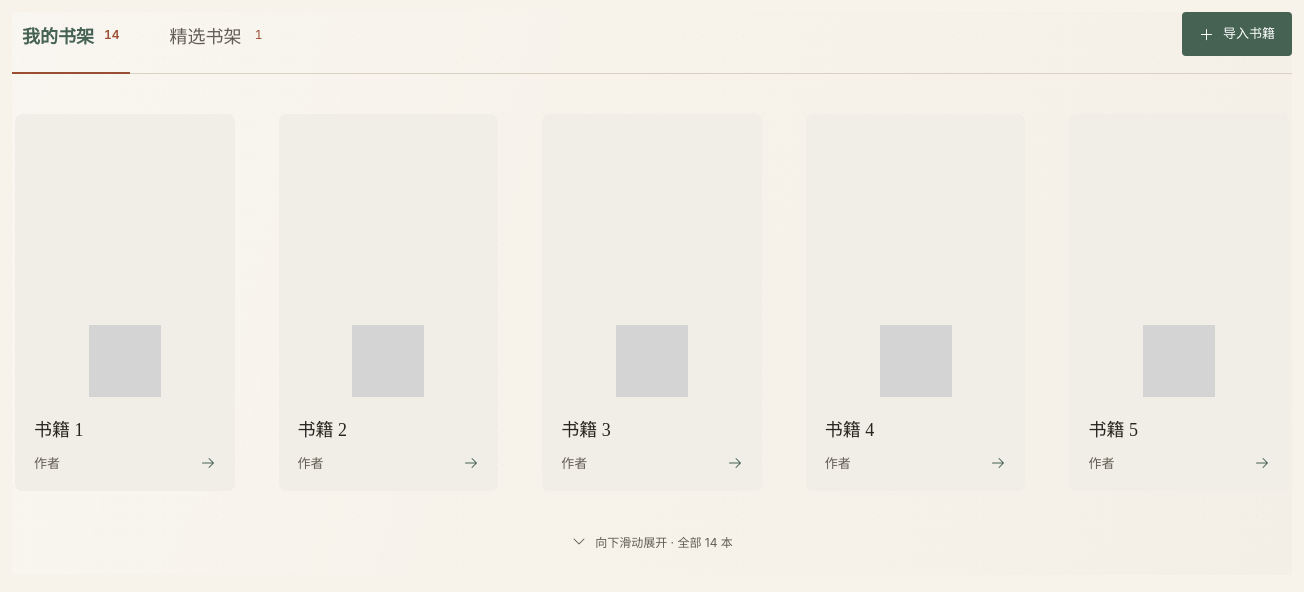
Test: AnalyzedBookShelf › shows one shelf at a time, with titles and working book links
Expected: the text "书籍 1" is shown, [34,420,84,440]
Expected: the link "精选书籍" is not shown
Step 1. Click the tab "精选书架 1" → (218, 42), box [160,12,276,73]
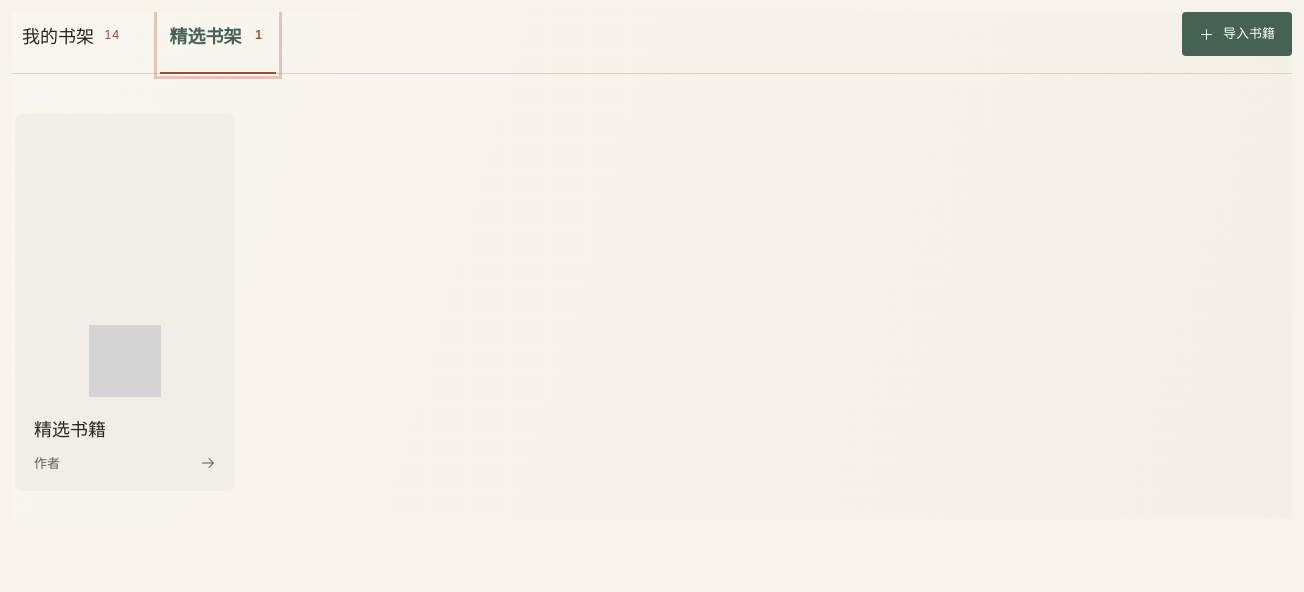
Expected: the link "精选书籍 作者" is shown, [15,114,235,491]
Expected: the link "书籍 1" is gone
